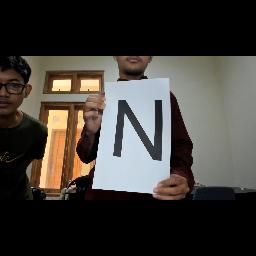n: (106, 88, 180, 164)
